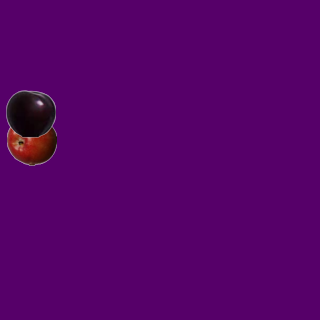Apple Braeburn: (6, 115, 56, 165)
Cherry Wax Black: (5, 88, 55, 138)
